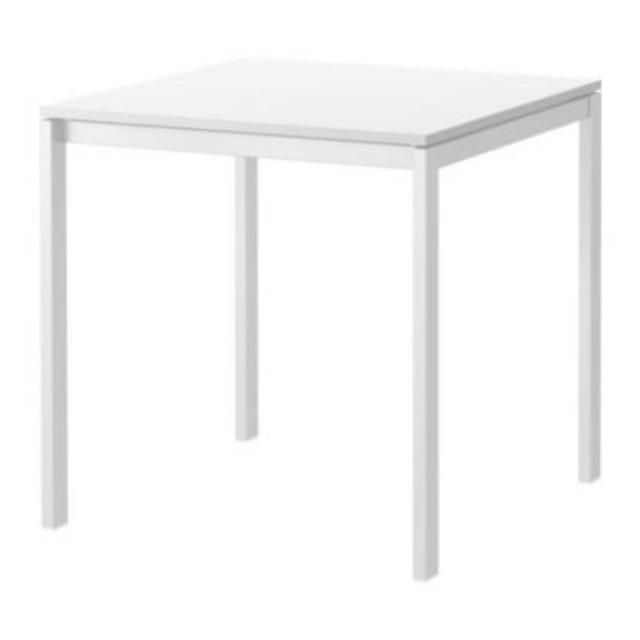table: (35, 60, 613, 573)
